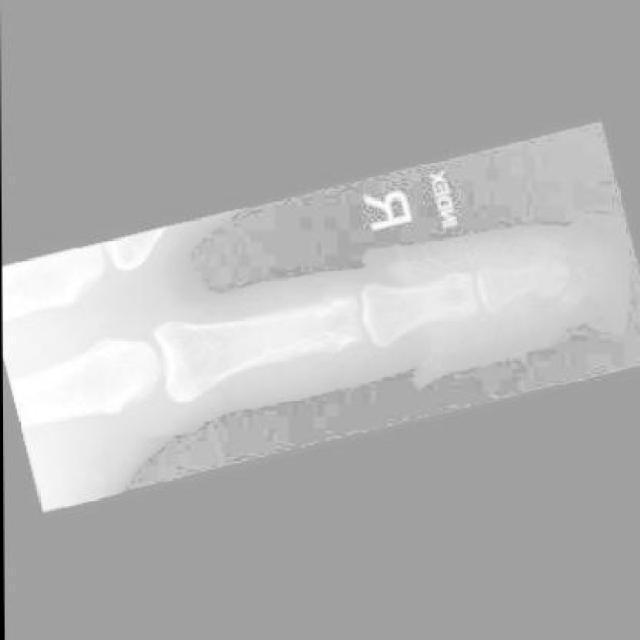Fracture: (521, 256, 579, 313)
